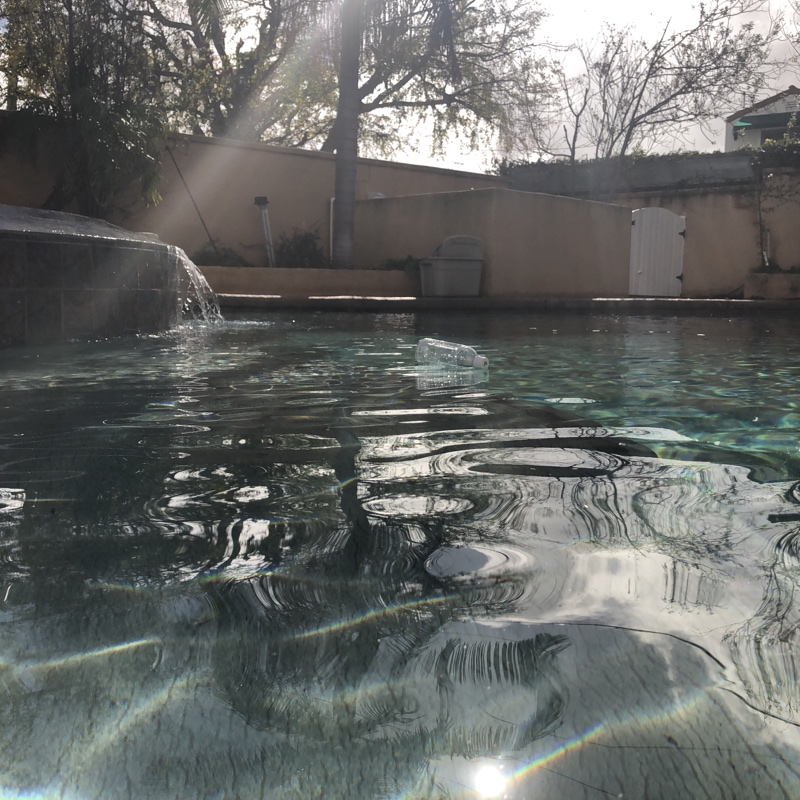Plastic Bottle: (413, 333, 489, 380)
